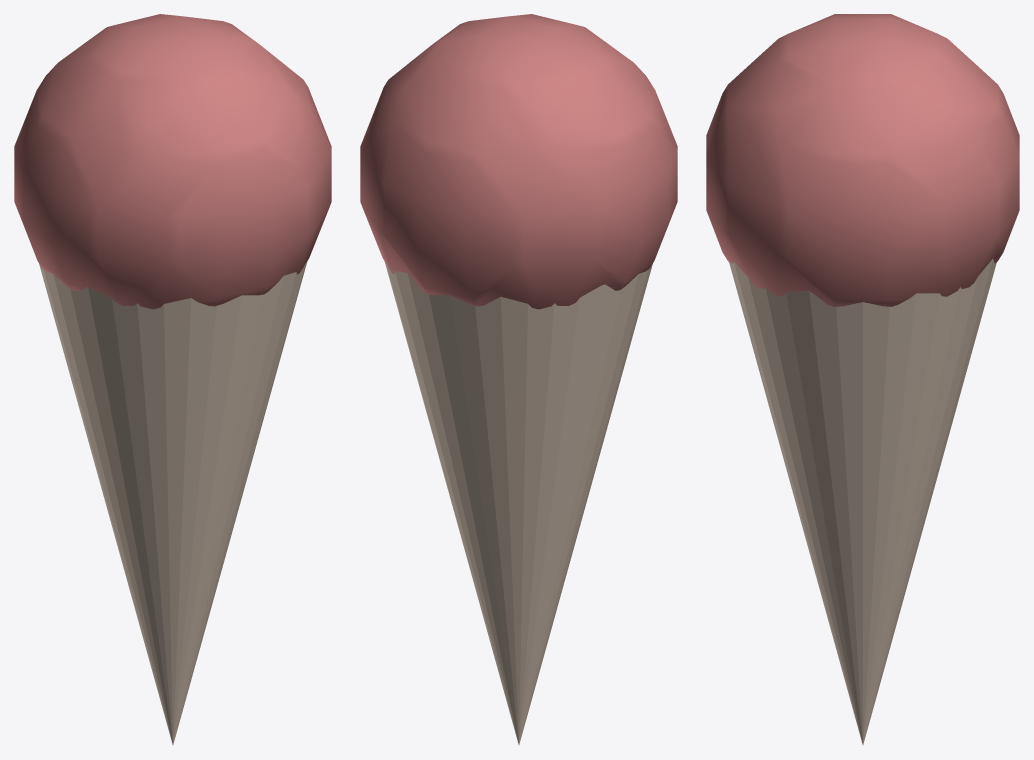
The model's file is iceCream.fbx.
The picture shows the model from 3 angles, left to right: view 1: azimuth 30°, elevation 25°; view 2: azimuth 150°, elevation 25°; view 3: azimuth 270°, elevation 25°; orthographic projection.
Parts seen in each view (by area): view 1: Mball, Cone; view 2: Mball, Cone; view 3: Mball, Cone.
Boxes of the visible parts, x1=… form: Mball: x1=14, y1=14, x2=331, y2=309; Cone: x1=39, y1=262, x2=306, y2=744; Mball: x1=360, y1=14, x2=677, y2=309; Cone: x1=385, y1=262, x2=652, y2=744; Mball: x1=706, y1=14, x2=1019, y2=306; Cone: x1=729, y1=259, x2=996, y2=744.
Size of the model in its own units: 223 by 562 by 223.
